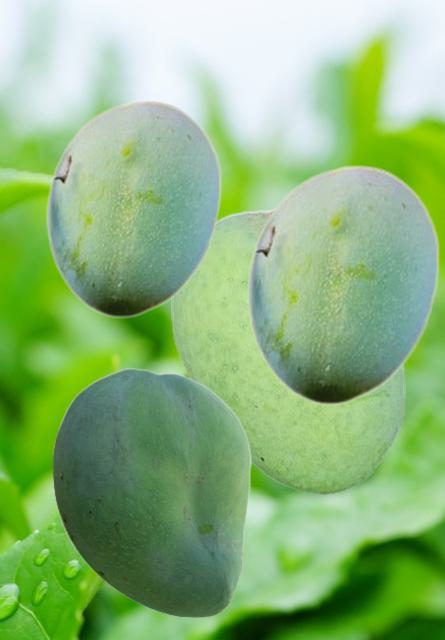green_mango: (171, 207, 404, 493), (52, 368, 250, 617), (246, 164, 439, 404), (45, 99, 221, 317)
